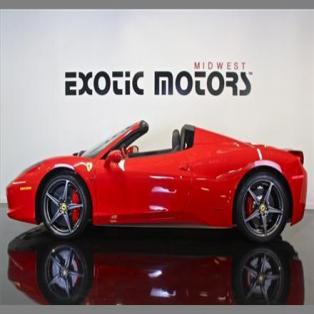Auto: (6, 120, 308, 240)
